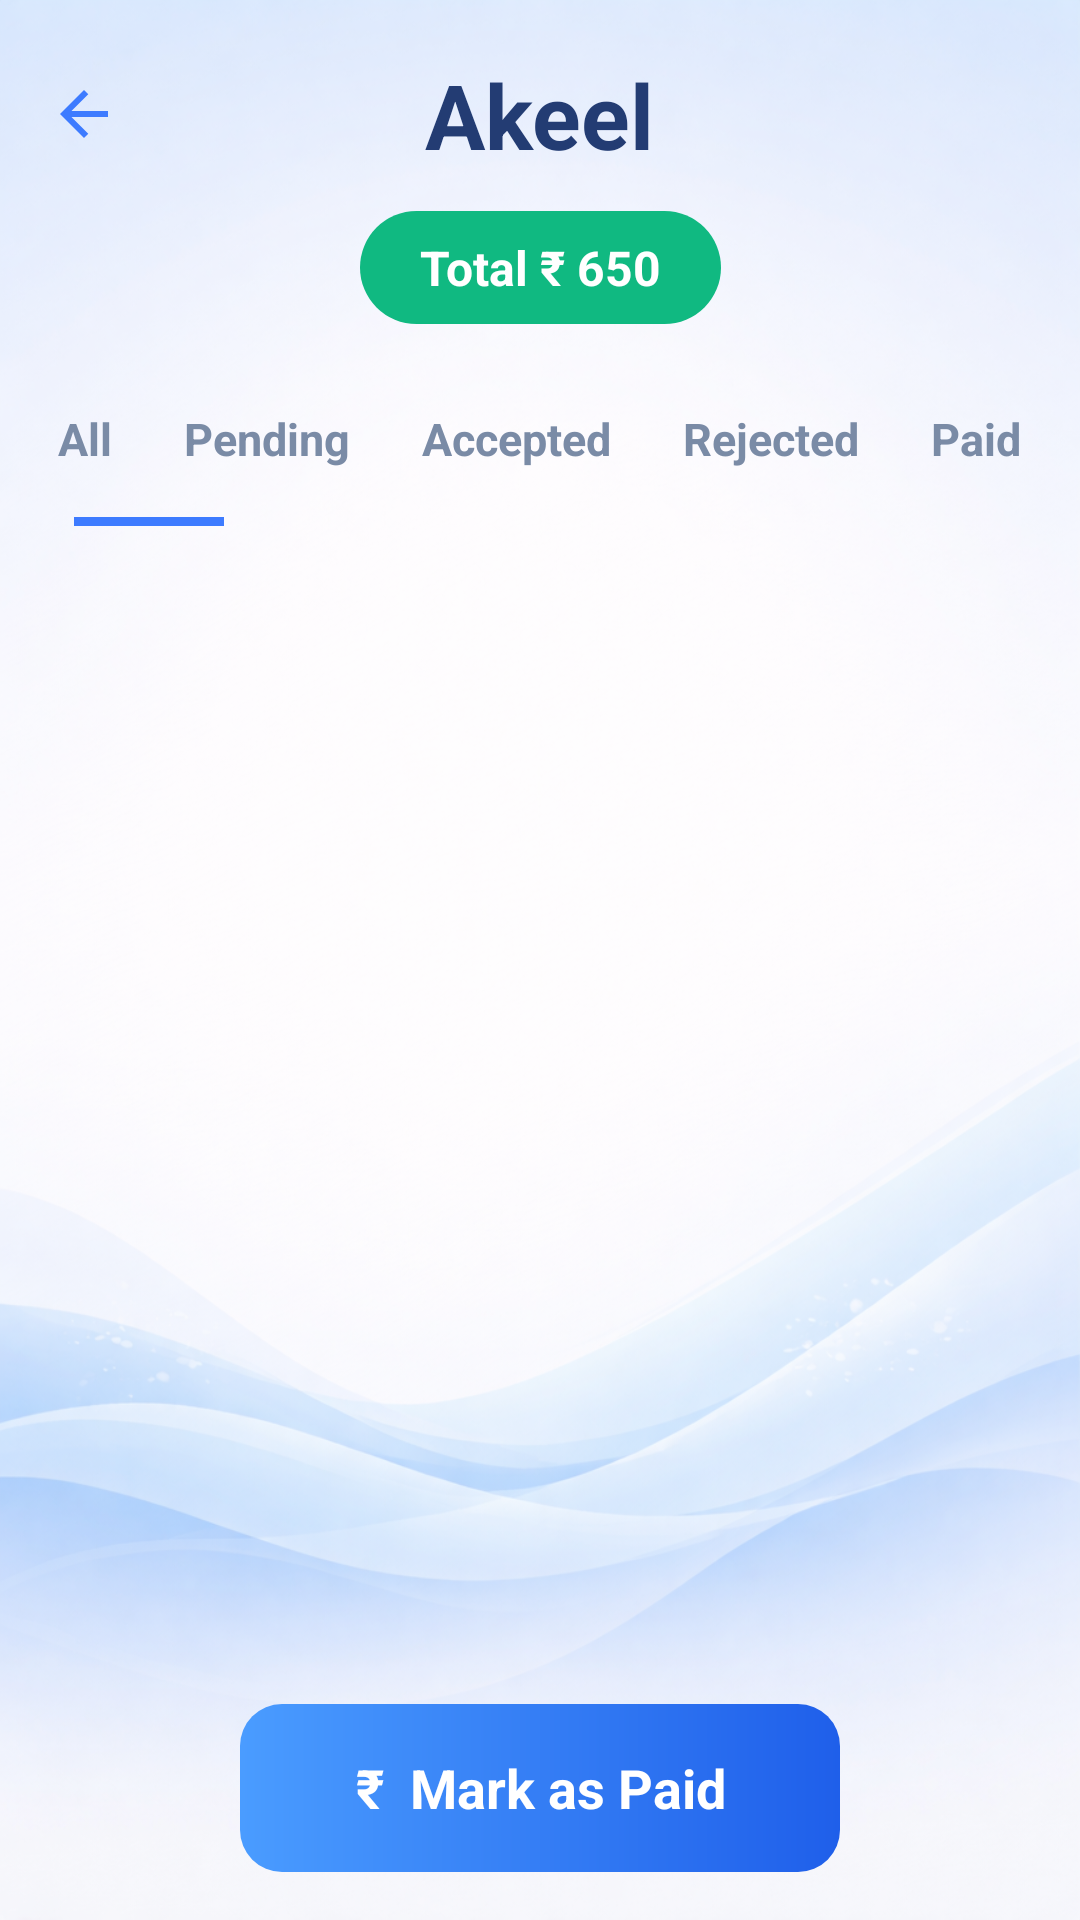

Point at icon controls on the screen. Image size 1080x1920, points as (x=x, y=y).
back arrow: (x=84, y=114)
